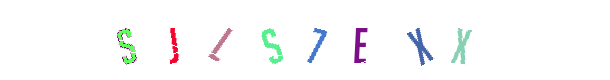7: (271, 0, 351, 80)
E: (276, 0, 356, 80)
J: (165, 0, 245, 80)
L: (174, 0, 254, 80)
S: (134, 0, 214, 80), (265, 0, 345, 80)
X: (339, 0, 419, 80), (387, 0, 467, 80)
